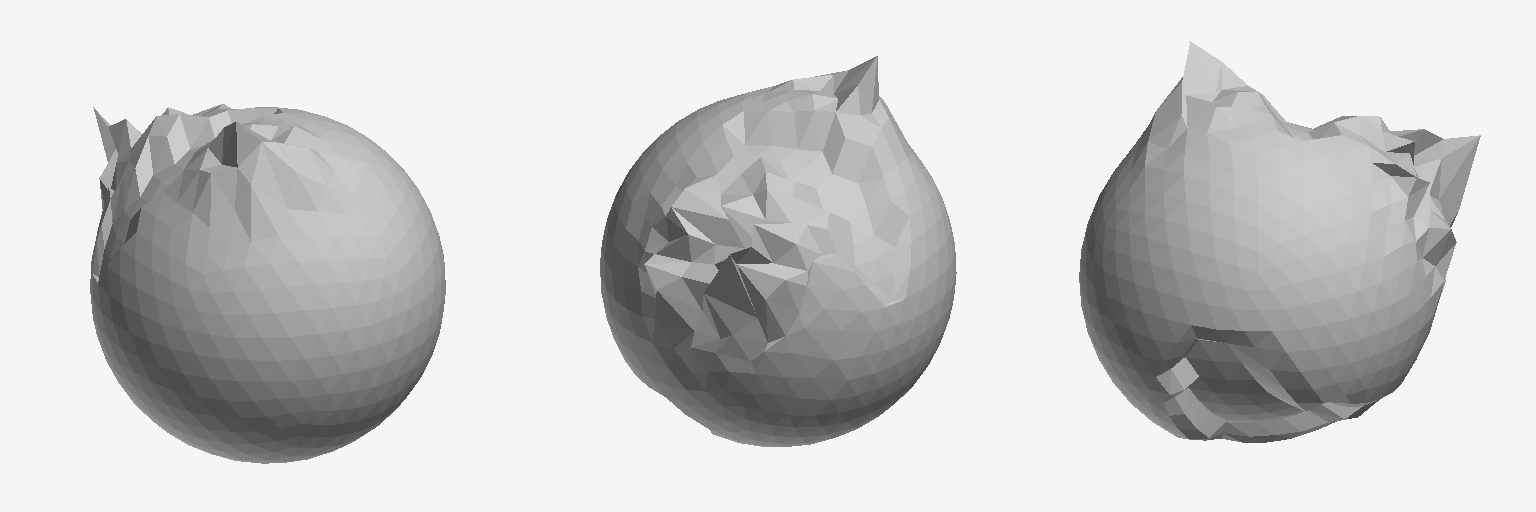
File: proto_earth.obj
3 views of the same model, side by side, from view 1: azimuth 30°, elevation 25°; view 2: azimuth 150°, elevation 25°; view 3: azimuth 270°, elevation 25° (orthographic).
Parts seen in each view (by area): view 1: Icosphere; view 2: Icosphere; view 3: Icosphere.
Part boxes in pixels (left/top/right/bottom): Icosphere: left=90, top=104, right=445, bottom=463; Icosphere: left=600, top=56, right=956, bottom=446; Icosphere: left=1079, top=41, right=1480, bottom=442.
Size of the model in its own units: 13.47 by 15.34 by 15.25.